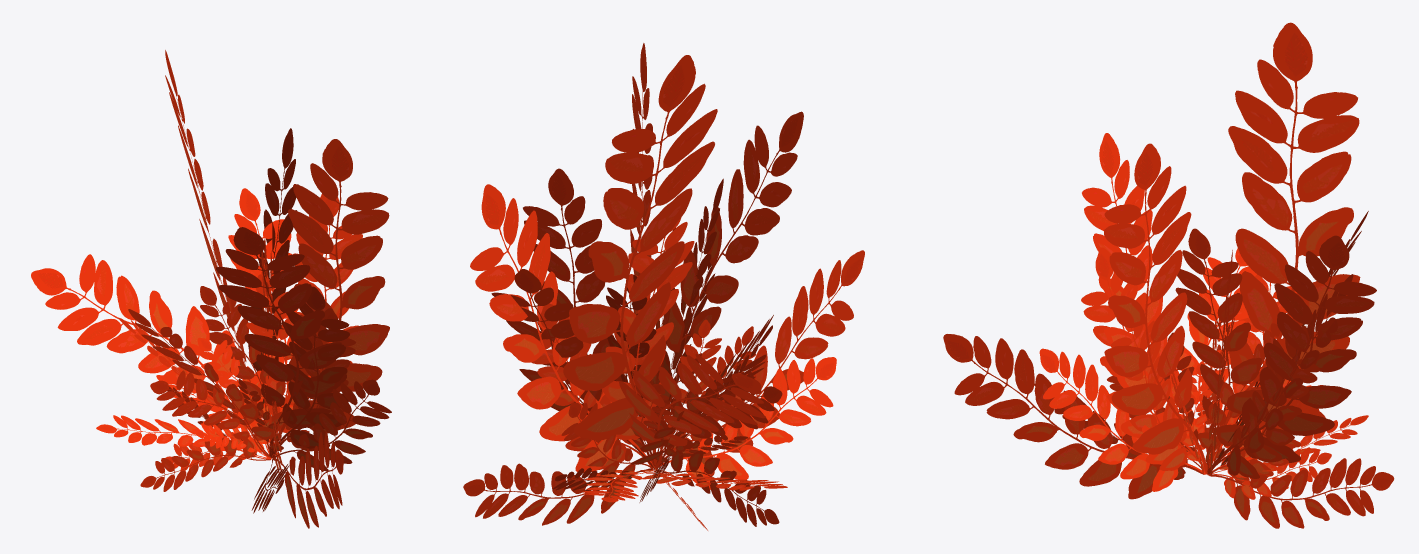
The model's file is redbush6.fbx.
The picture shows the model from 3 angles, left to right: view 1: azimuth 30°, elevation 25°; view 2: azimuth 150°, elevation 25°; view 3: azimuth 270°, elevation 25°; orthographic projection. The views are drawn at different scales.
Visible parts, largest first — view 1: pPlane164; view 2: pPlane164; view 3: pPlane164.
Boxes of the visible parts, bbox=[...] form: pPlane164: bbox=[31, 50, 391, 528]; pPlane164: bbox=[463, 43, 864, 530]; pPlane164: bbox=[943, 22, 1394, 528].
Bounding box in the file's own units: 9.31 × 13.51 × 12.32.
